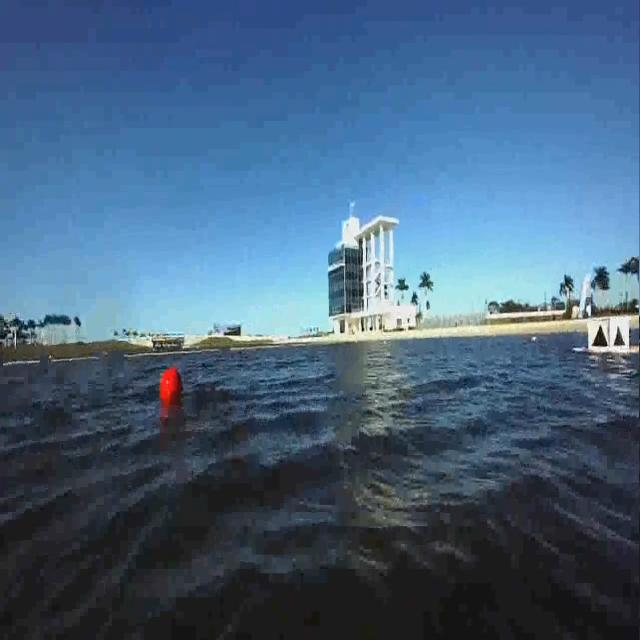red-buoy: (161, 366, 184, 404)
